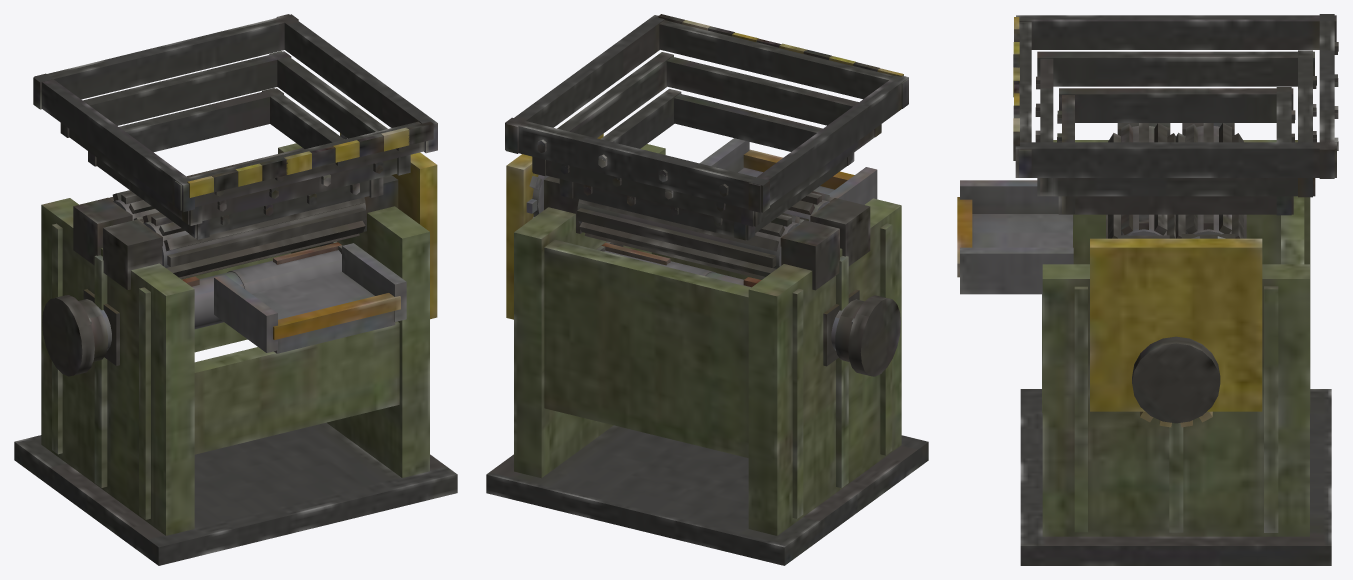
File: feCrusher.glb
The picture shows the model from 3 angles, left to right: view 1: azimuth 30°, elevation 25°; view 2: azimuth 150°, elevation 25°; view 3: azimuth 270°, elevation 25°; orthographic projection. The views are drawn at different scales.
Visible parts, largest first — view 1: feCrusher_Base, FeSpin_DriveShaft, FeSpin_x2_Rev_RollB, FeSpin_x2_RollA; view 2: feCrusher_Base, FeSpin_x2_RollA, FeSpin_DriveShaft, FeSpin_x2_Rev_RollB; view 3: feCrusher_Base, FeSpin_DriveShaft, FeSpin_x2_Rev_RollB, FeSpin_x2_RollA.
Part boxes in pixels (bbox=[...]): feCrusher_Base: bbox=[14, 14, 457, 565]; FeSpin_DriveShaft: bbox=[42, 242, 341, 376]; FeSpin_x2_Rev_RollB: bbox=[139, 197, 366, 279]; FeSpin_x2_RollA: bbox=[109, 134, 347, 220]; feCrusher_Base: bbox=[486, 14, 928, 565]; FeSpin_x2_RollA: bbox=[526, 175, 804, 279]; FeSpin_DriveShaft: bbox=[601, 242, 900, 376]; FeSpin_x2_Rev_RollB: bbox=[783, 191, 833, 221]; feCrusher_Base: bbox=[957, 14, 1338, 565]; FeSpin_DriveShaft: bbox=[1132, 336, 1220, 427]; FeSpin_x2_Rev_RollB: bbox=[1106, 123, 1175, 238]; FeSpin_x2_RollA: bbox=[1176, 123, 1246, 238].
Size of the model in its own units: 1 by 1.04 by 0.8838.
1 material, 1 textured.
